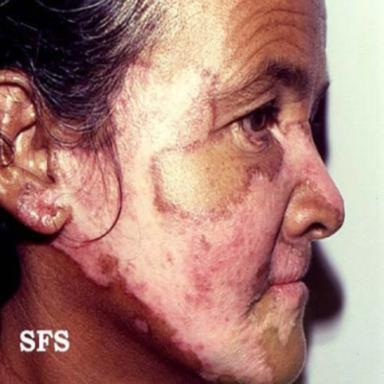Lupus-Erythematosus-Chronicus-Discoides: (16, 62, 345, 384), (134, 318, 149, 333)
